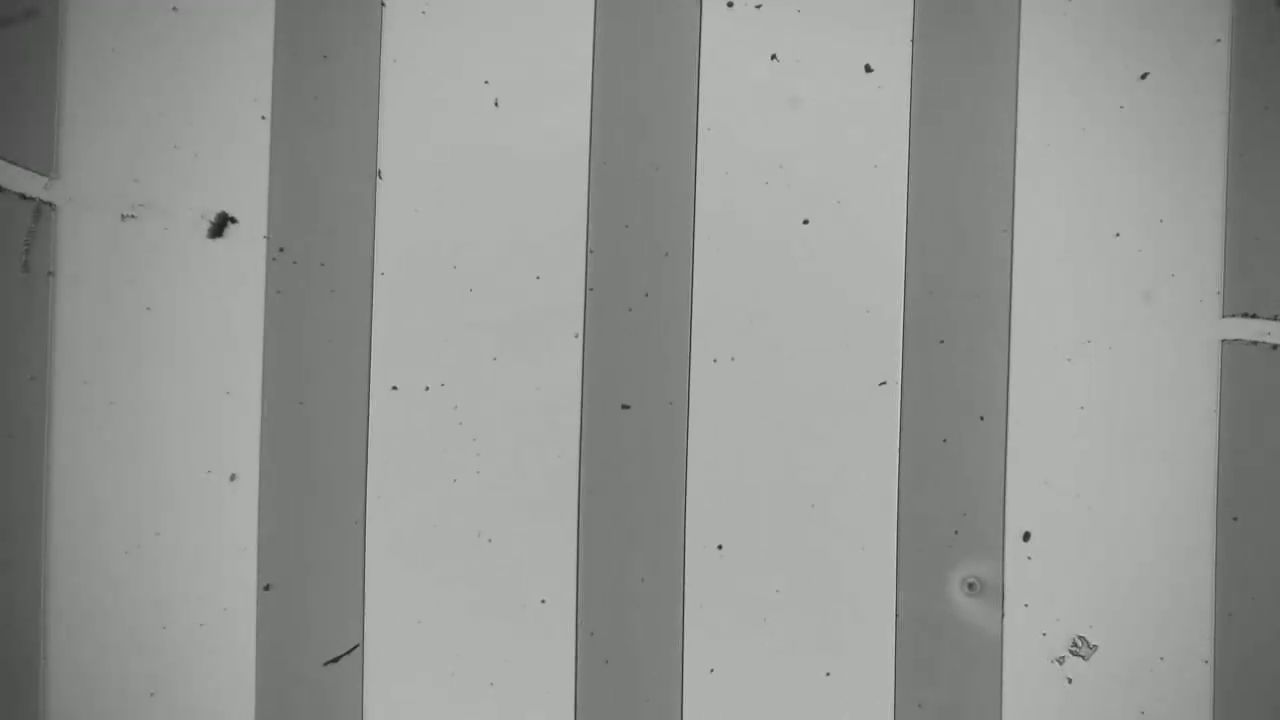Short_circuit: (1186, 281, 1280, 364), (1, 141, 74, 236)
